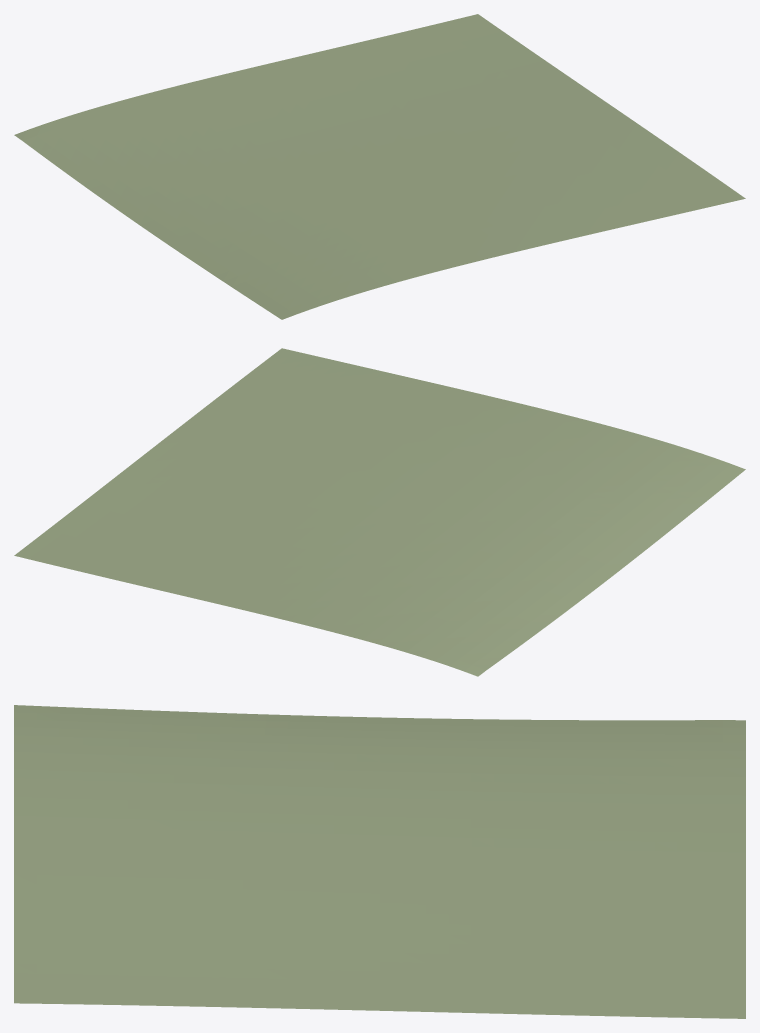
Rendered from expanse-17-3.glb.
The picture shows the model from 3 angles, top to bottom: view 1: azimuth 30°, elevation 25°; view 2: azimuth 150°, elevation 25°; view 3: azimuth 270°, elevation 25°; orthographic projection. The views are drawn at different scales.
Parts seen in each view (by area): view 1: expanse-17-3; view 2: expanse-17-3; view 3: expanse-17-3.
Part boxes in pixels (<box>): expanse-17-3: <box>14,14,745,319</box>; expanse-17-3: <box>14,348,745,676</box>; expanse-17-3: <box>14,705,745,1018</box>.
Size of the model in its own units: 256 by 11.63 by 256.
